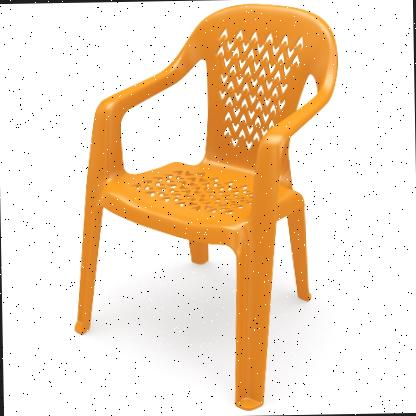chair: (57, 0, 344, 414)
